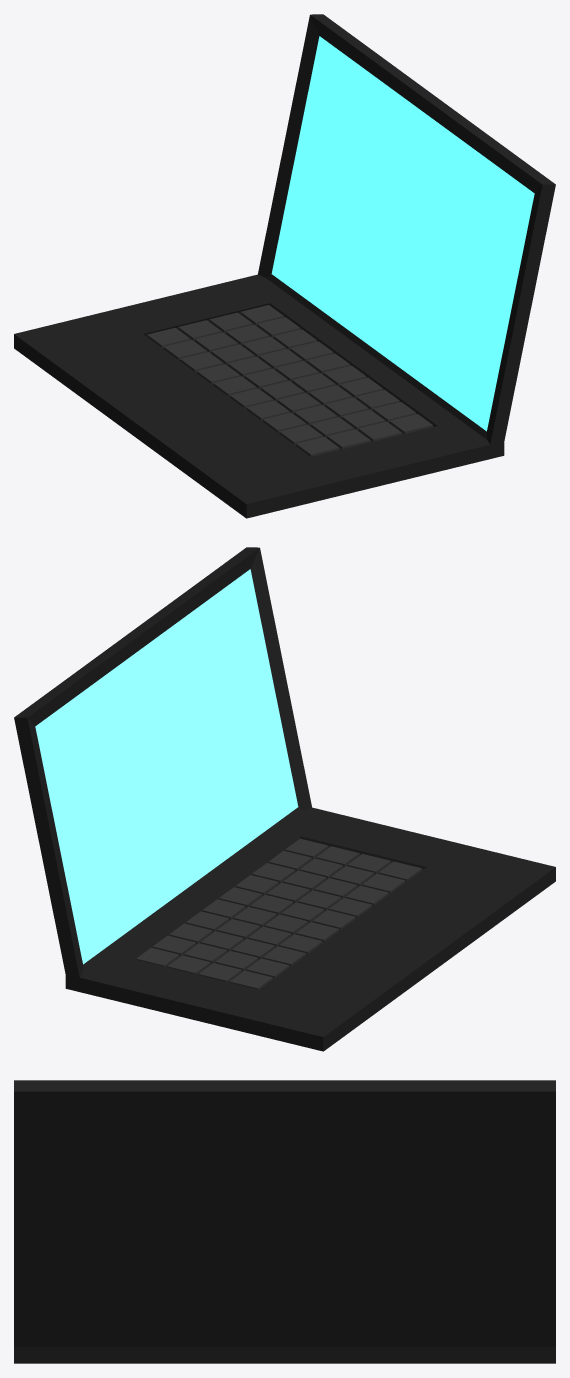
The model's file is Laptop.fbx.
The picture shows the model from 3 angles, top to bottom: view 1: azimuth 30°, elevation 25°; view 2: azimuth 150°, elevation 25°; view 3: azimuth 270°, elevation 25°; orthographic projection. The views are drawn at different scales.
Visible parts, largest first — view 1: Cube, Cube.001; view 2: Cube, Cube.001; view 3: Cube.
Part boxes in pixels (bbox=[...]): Cube: bbox=[14, 14, 555, 518]; Cube.001: bbox=[147, 305, 432, 456]; Cube: bbox=[14, 547, 555, 1051]; Cube.001: bbox=[136, 838, 421, 989]; Cube: bbox=[14, 1080, 555, 1363].
Size of the model in its own units: 199 by 161 by 260.
